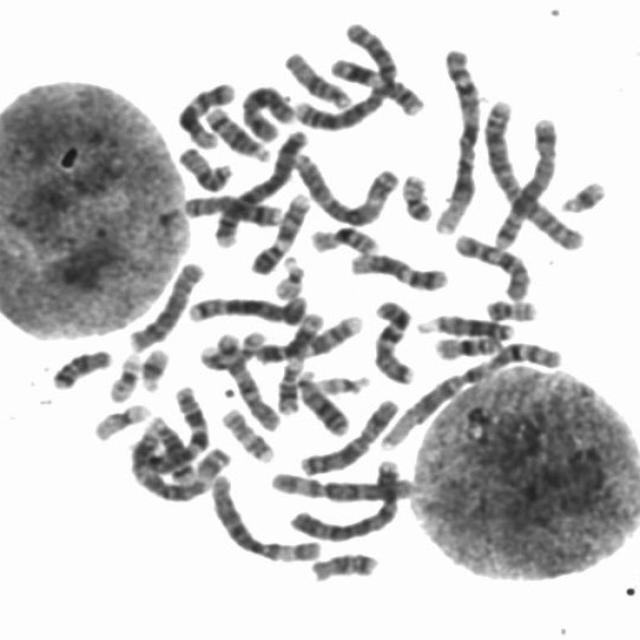A1: (374, 333, 566, 453), (430, 44, 484, 237)
A2: (479, 95, 588, 251), (289, 15, 402, 132)
A3: (125, 417, 234, 504), (289, 149, 402, 227)
B4: (209, 123, 311, 249), (284, 454, 406, 544)
B5: (488, 112, 562, 250), (182, 290, 311, 326)
C10: (210, 328, 282, 432), (449, 227, 536, 303)
C11: (326, 52, 426, 117), (272, 306, 326, 417)
C12: (344, 245, 450, 292), (172, 76, 237, 150)
C6: (208, 469, 324, 564), (264, 464, 417, 505)
C7: (144, 381, 211, 476), (369, 295, 417, 387)
C8: (123, 257, 206, 354), (177, 189, 284, 227)
C9: (250, 308, 365, 365), (244, 187, 312, 276)
D13: (291, 365, 353, 437), (414, 308, 516, 341)
D14: (200, 101, 272, 162), (145, 412, 198, 484)
D15: (279, 47, 354, 109), (173, 141, 236, 193)
E16: (307, 220, 383, 256), (429, 330, 504, 361)
E17: (217, 402, 277, 464), (195, 324, 268, 372)
E18: (47, 343, 114, 391), (305, 546, 380, 583)
F19: (88, 398, 154, 442), (104, 348, 142, 404)
F20: (396, 168, 435, 223), (481, 293, 540, 322)
G21: (555, 175, 609, 214), (136, 342, 172, 393)
G22: (270, 252, 308, 300), (310, 369, 374, 397)
X: (297, 393, 402, 477), (237, 79, 297, 144)
